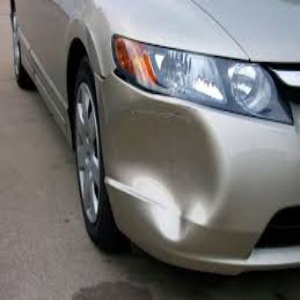bumper: (67, 193, 226, 265)
